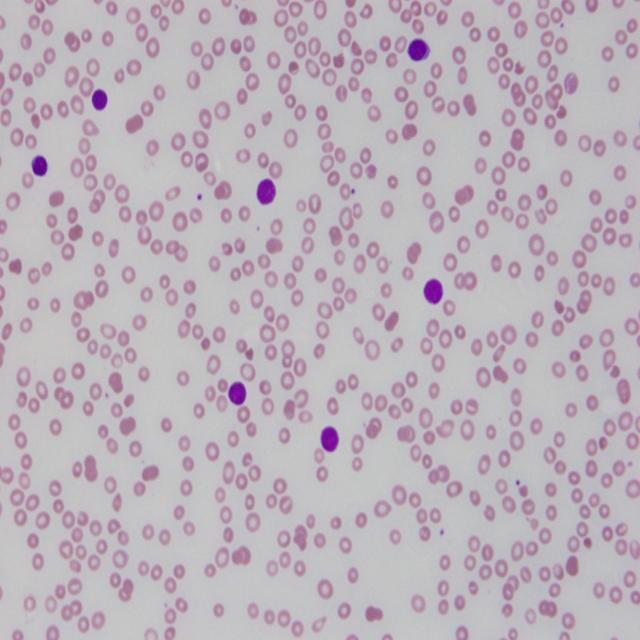cell: (256, 178, 276, 205), (408, 38, 430, 62), (424, 278, 442, 304), (321, 427, 339, 452), (229, 382, 246, 405), (31, 155, 48, 176), (91, 90, 108, 110)
